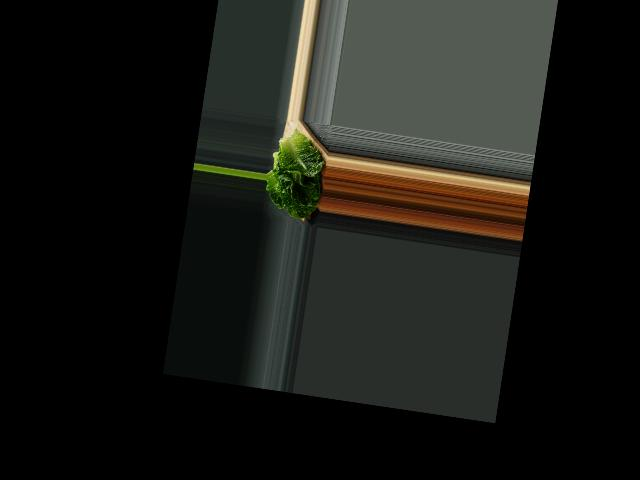lettuce: (261, 129, 331, 224)
